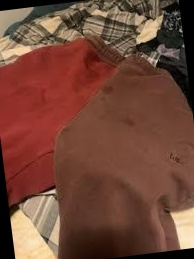oil: (165, 149, 182, 166), (121, 116, 136, 130), (107, 88, 118, 98)
